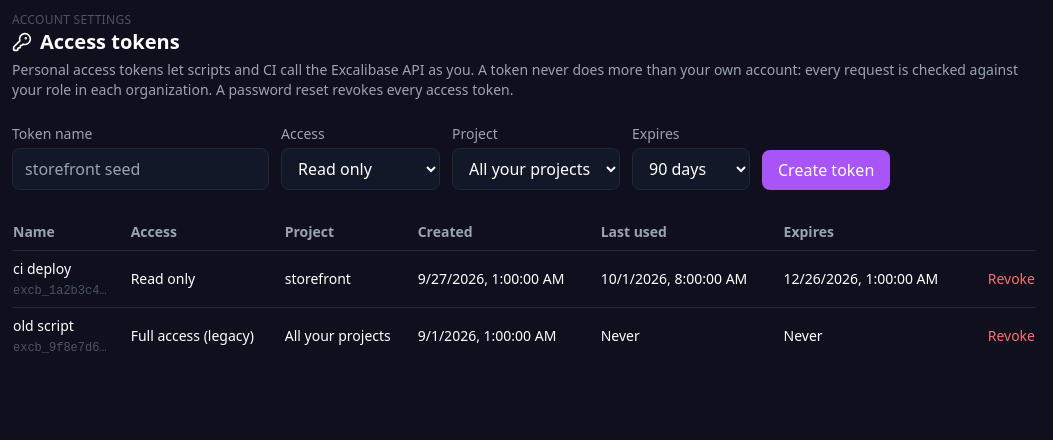
Access tokens › a name is required before anything is sent
Expected: the row with test id "access-token-hash-ci" is shown, [12,250,1036,308]
Click the button "Create token" at (826, 170), box [762,150,890,190]
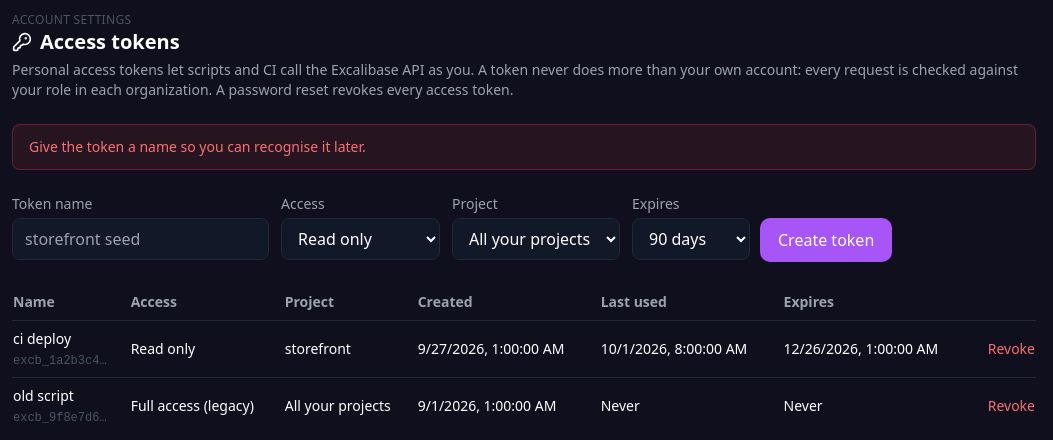
Expected: the text "Give the token a name so you can recognise it later." is shown, [12,124,1036,170]
